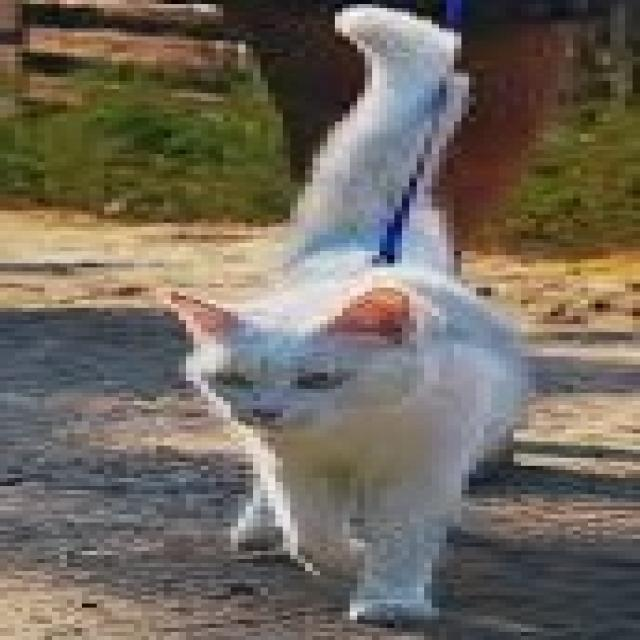cat: (145, 0, 590, 639)
